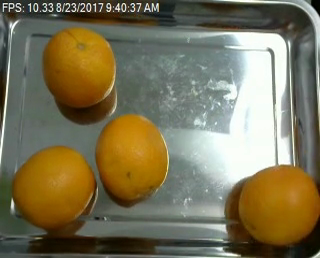Orange: (11, 144, 94, 225), (238, 164, 320, 243), (96, 114, 169, 198), (43, 27, 117, 106)
